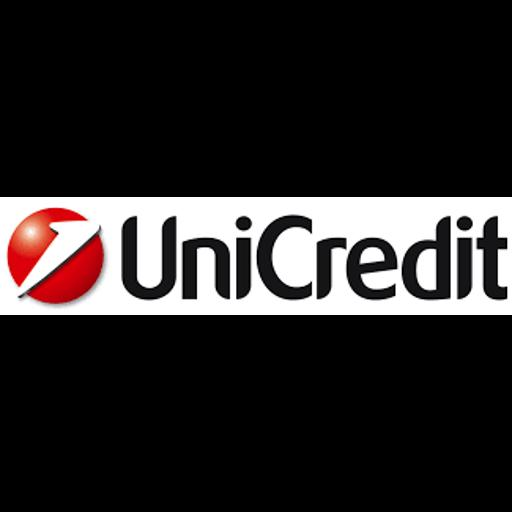UniCredit Bank Aktiengesellschaft: (0, 197, 512, 315)
